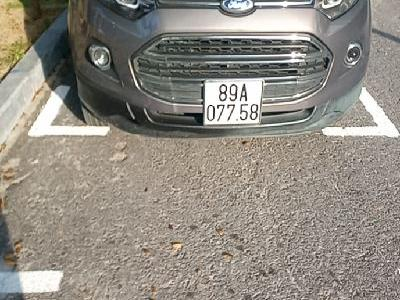lisence: (202, 77, 264, 127)
